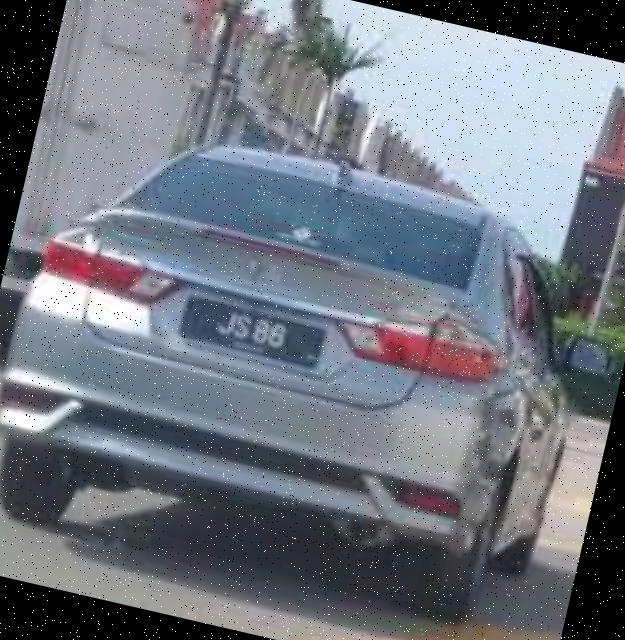License_Plate: (172, 292, 333, 389)
car: (1, 95, 615, 629)
